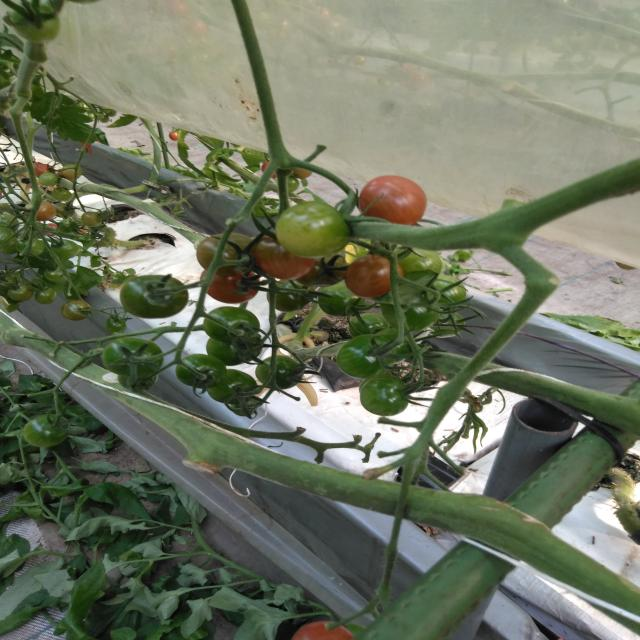c-half-riped: (252, 235, 316, 281), (344, 253, 404, 300), (196, 232, 257, 275), (295, 252, 347, 286), (23, 201, 56, 222), (63, 300, 90, 320), (292, 168, 314, 178)
c-riped: (359, 175, 428, 226), (199, 270, 261, 304), (290, 621, 355, 640), (34, 164, 55, 178)
c-unriped: (274, 200, 353, 259), (119, 274, 189, 320), (334, 334, 398, 379), (101, 337, 164, 378), (380, 292, 442, 332), (203, 306, 261, 344), (10, 2, 62, 42), (359, 375, 409, 416), (206, 368, 259, 405), (174, 353, 227, 389), (206, 334, 262, 367), (317, 282, 365, 317), (22, 413, 70, 448), (255, 356, 303, 390), (267, 280, 317, 312), (387, 249, 442, 275), (374, 328, 414, 363), (428, 275, 467, 307), (425, 308, 465, 338), (347, 313, 390, 337), (118, 371, 159, 390), (230, 395, 259, 417), (16, 236, 44, 258), (51, 239, 79, 259), (7, 283, 33, 302), (0, 226, 17, 254), (44, 266, 69, 284), (106, 314, 127, 334), (35, 286, 57, 304), (0, 213, 20, 232), (80, 211, 102, 227), (60, 164, 82, 180), (54, 203, 75, 218), (58, 219, 79, 234), (51, 188, 72, 202), (38, 172, 58, 186), (288, 176, 300, 194)
